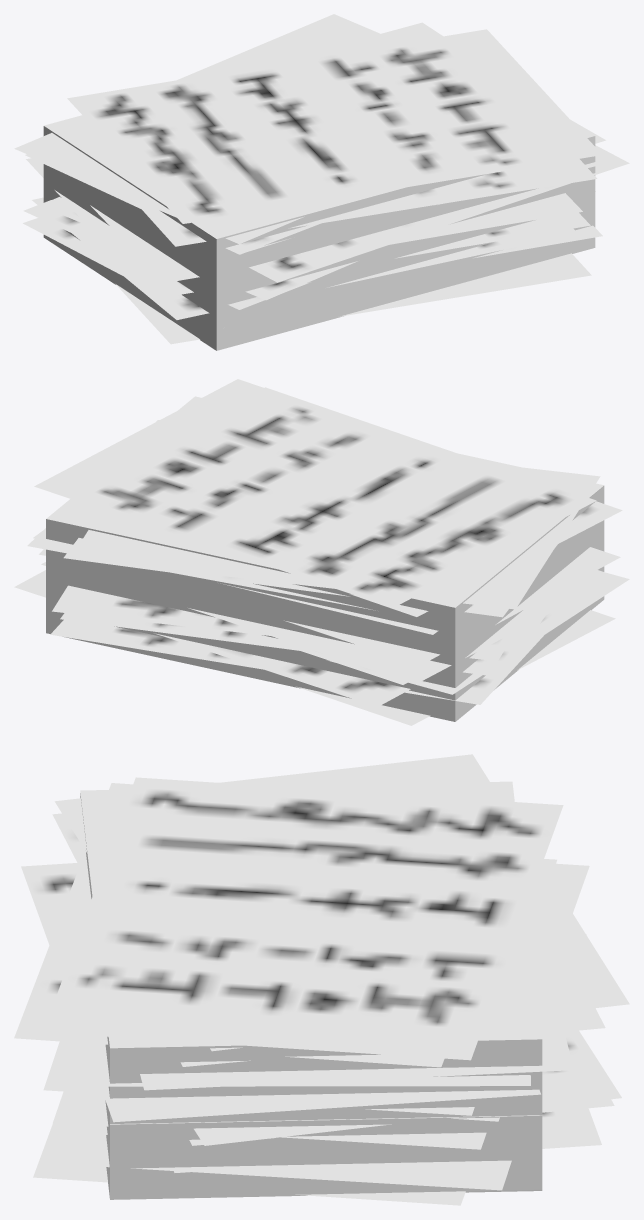
File: papers.glb
3 views of the same model, one above another, from view 1: azimuth 30°, elevation 25°; view 2: azimuth 150°, elevation 25°; view 3: azimuth 270°, elevation 25° (orthographic). The views are drawn at different scales.
Visible parts, largest first — view 1: Object_2; view 2: Object_2; view 3: Object_2.
Boxes of the visible parts, bbox=[...] form: Object_2: bbox=[14, 14, 629, 350]; Object_2: bbox=[14, 379, 629, 725]; Object_2: bbox=[14, 754, 629, 1205].
Bounding box in the file's own units: 7.88 × 1.79 × 6.41.
1 material, 1 textured.
